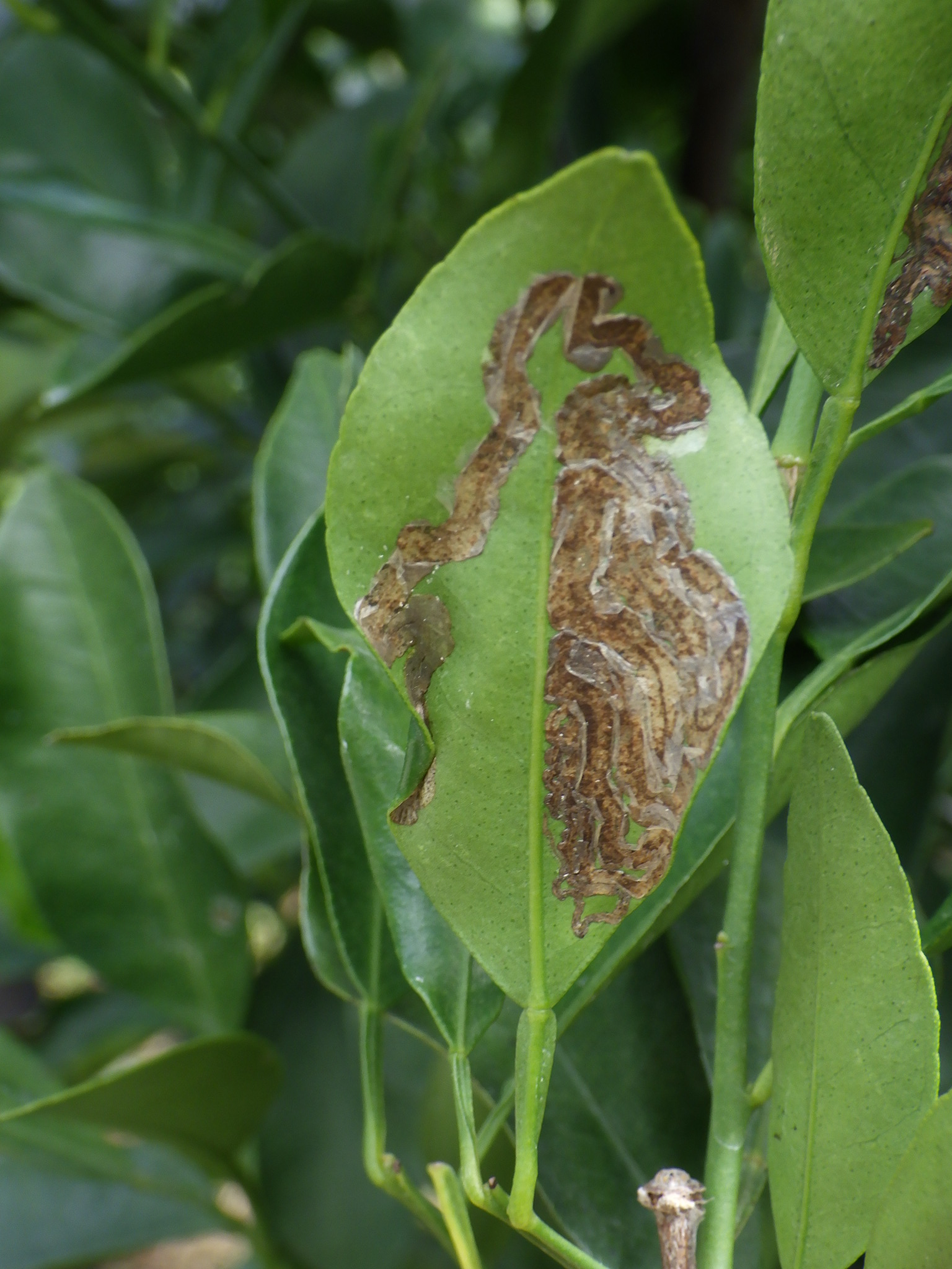Citrus_Leaf_Miner: (544, 335, 748, 936), (355, 273, 581, 723)
